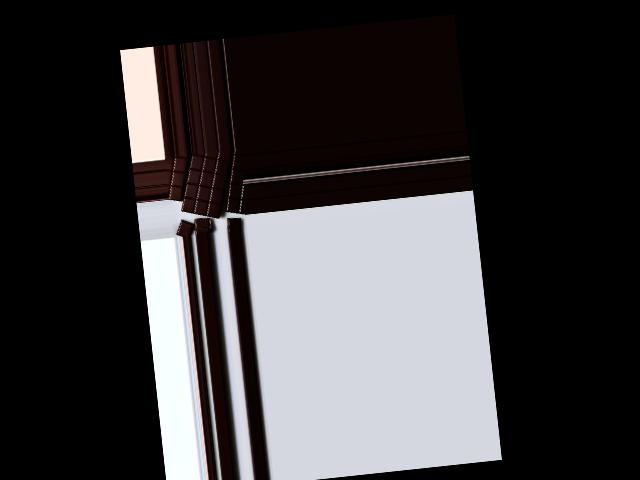chocolate: (174, 150, 236, 221)
